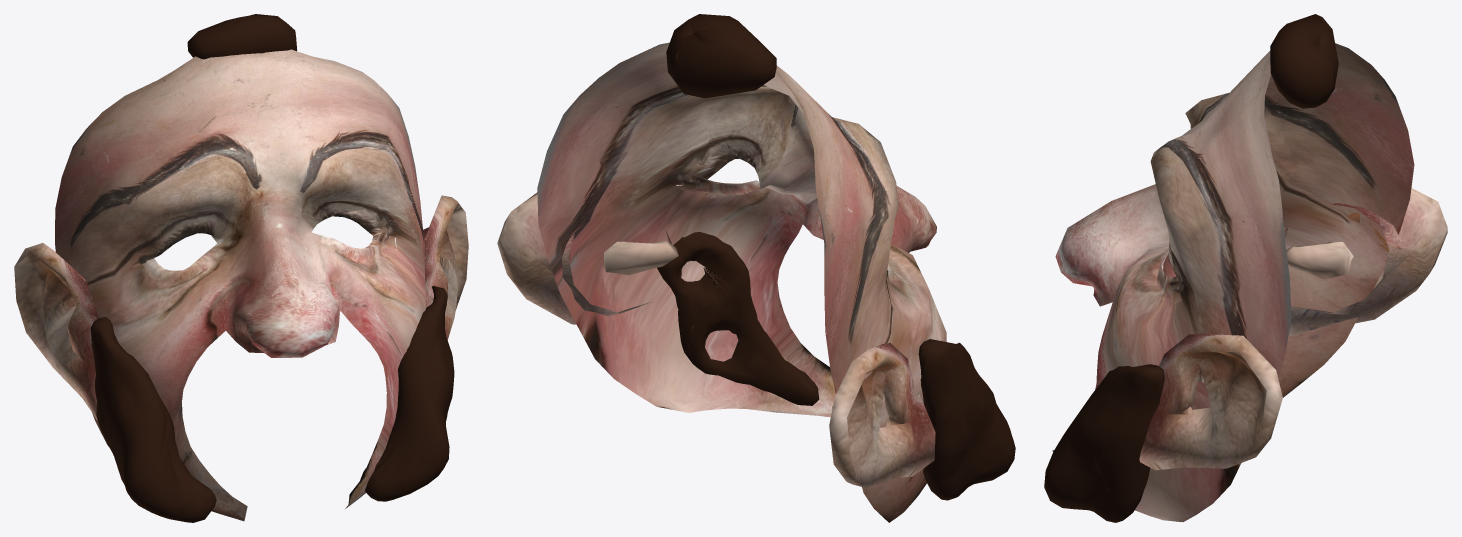
Rendered from masque_entier.glb.
The picture shows the model from 3 angles, left to right: view 1: azimuth 30°, elevation 25°; view 2: azimuth 150°, elevation 25°; view 3: azimuth 270°, elevation 25°; orthographic projection. The views are drawn at different scales.
Parts seen in each view (by area): view 1: masque; view 2: masque; view 3: masque.
Boxes of the visible parts, bbox=[...] form: masque: bbox=[14, 14, 468, 522]; masque: bbox=[497, 14, 1015, 522]; masque: bbox=[1044, 14, 1447, 522].
Bounding box in the file's own units: 0.3252 × 0.3341 × 0.2651.
Materials: 3 (2 with a texture image).
